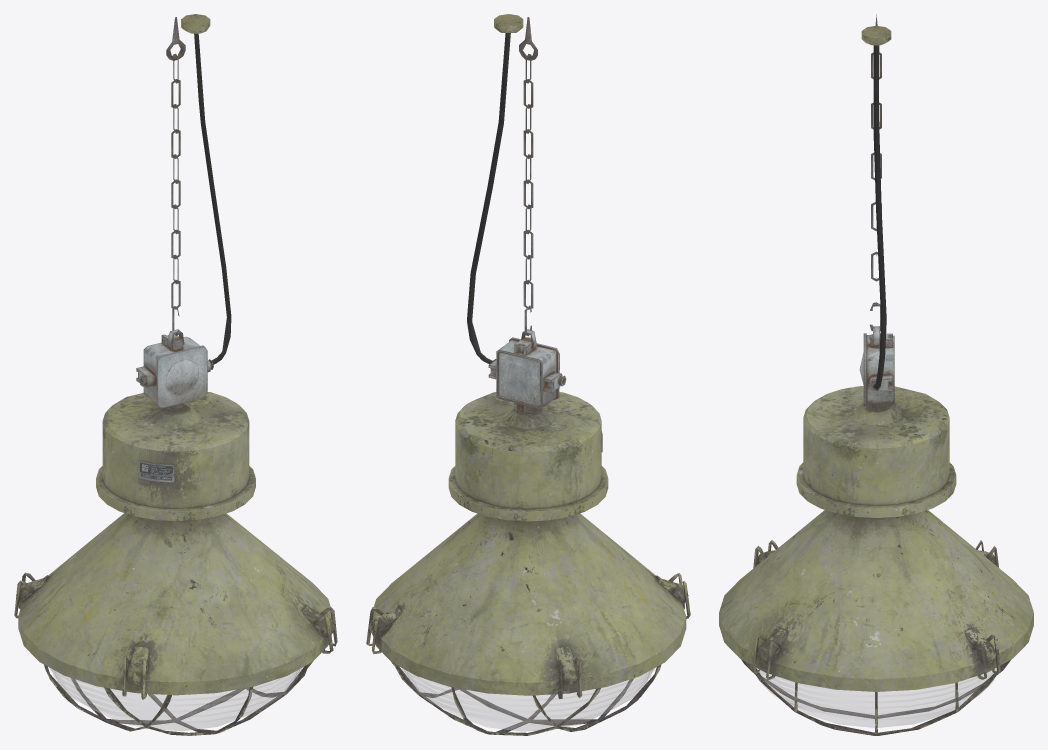
File: hanging_industrial_lamp.glb
The picture shows the model from 3 angles, left to right: view 1: azimuth 30°, elevation 25°; view 2: azimuth 150°, elevation 25°; view 3: azimuth 270°, elevation 25°; orthographic projection.
Visible parts, largest first — view 1: hanging_industrial_lamp; view 2: hanging_industrial_lamp; view 3: hanging_industrial_lamp.
Boxes of the visible parts, x1=… form: hanging_industrial_lamp: x1=14, y1=14, x2=337, y2=735; hanging_industrial_lamp: x1=366, y1=14, x2=690, y2=735; hanging_industrial_lamp: x1=719, y1=14, x2=1033, y2=735.
Size of the model in its own units: 0.5496 by 1.36 by 0.5496.
Materials: 2 (1 with a texture image).
